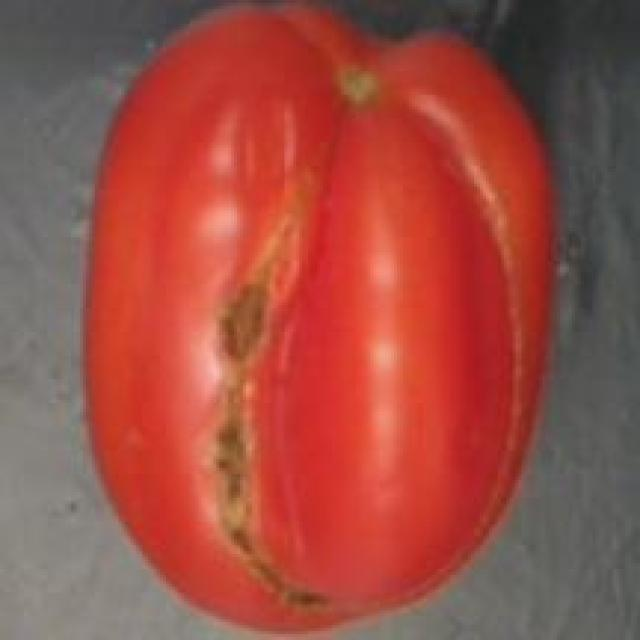overripe tomato: (77, 6, 569, 640)
